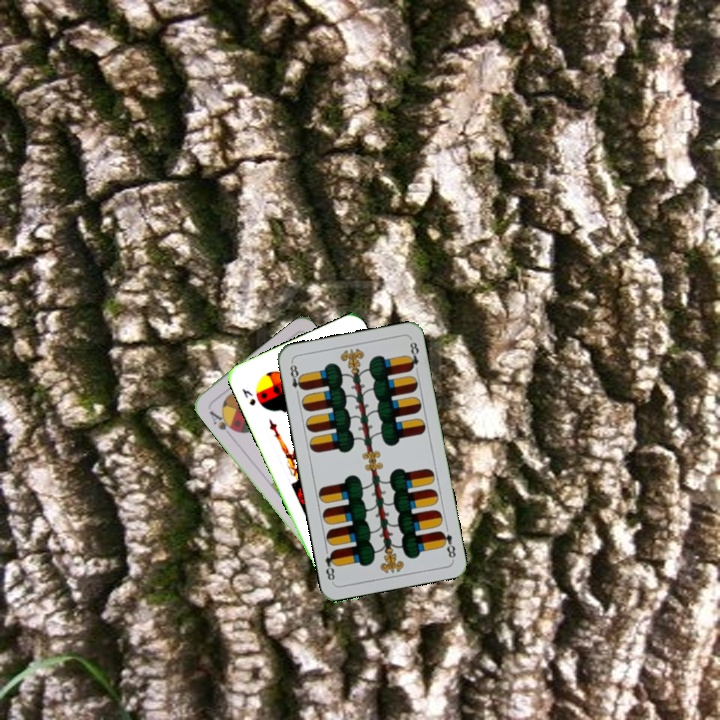E8: (286, 359, 306, 399), (436, 527, 458, 562)
SA: (205, 406, 239, 439)
SK: (238, 384, 258, 408)
